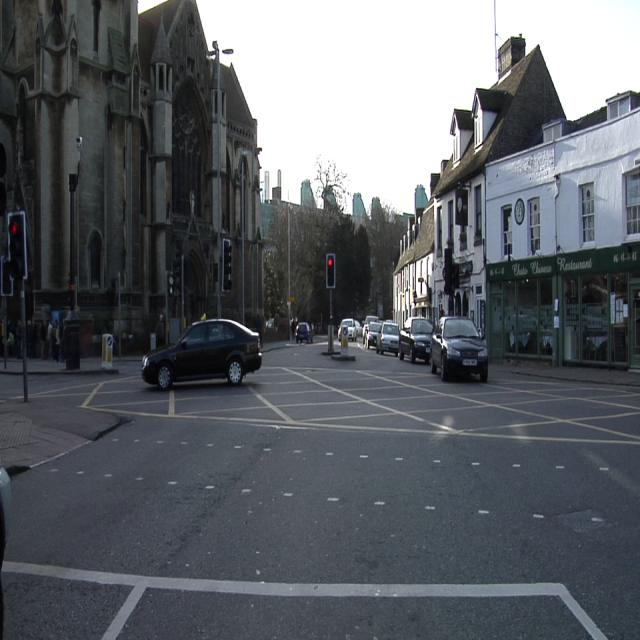Building: (1, 3, 262, 356), (389, 38, 563, 335), (487, 90, 639, 368), (263, 157, 392, 319)
Car: (143, 320, 261, 388), (432, 317, 487, 380), (400, 317, 431, 361), (0, 467, 8, 573), (377, 322, 399, 355), (363, 317, 379, 347), (339, 319, 359, 340), (295, 322, 313, 343)
Road: (1, 340, 639, 619)
Tree: (313, 156, 369, 317)
